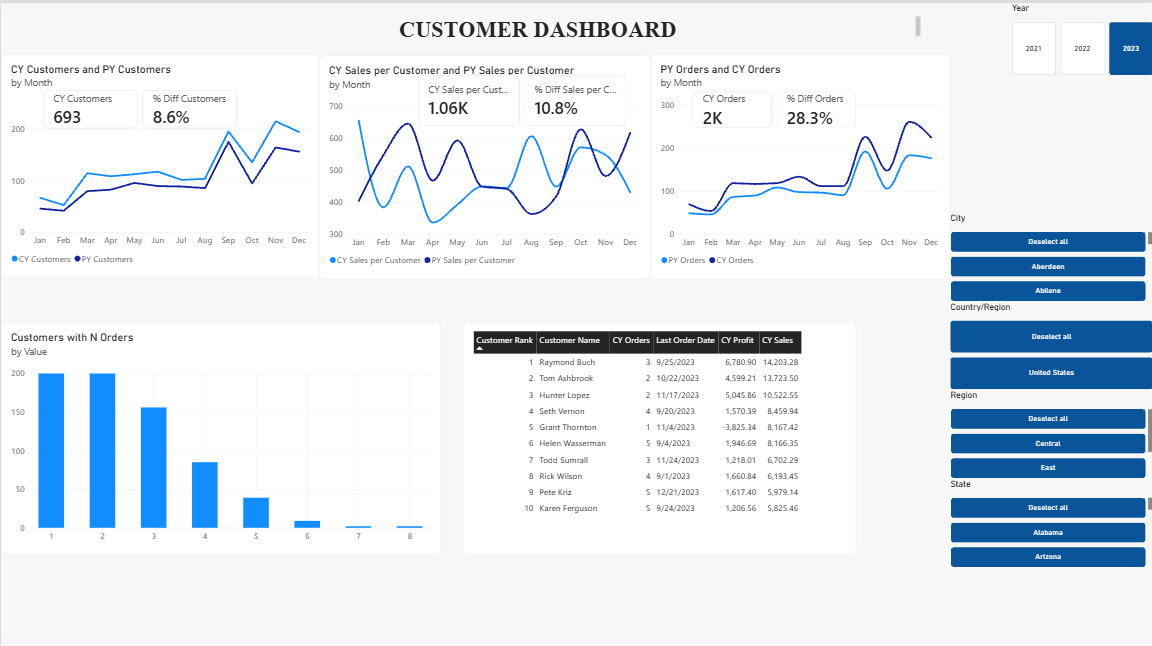

What the dashboard file says about the page in this screenshot:
{"tool":"powerbi","page":{"name":"Customer Dashboard","canvas":[1920,1080],"ordinal":1},"visuals":[{"type":"advancedSlicerVisual","fields":{"Values":["Year Select.Year"]},"box":[1685,0,235,120],"z":0},{"type":"advancedSlicerVisual","fields":{"Values":["Location.Region"]},"box":[1582.5,645,337.5,147.5],"z":1000},{"type":"advancedSlicerVisual","fields":{"Values":["Location.State"]},"box":[1582.5,792.5,337.5,147.5],"z":2000},{"type":"advancedSlicerVisual","fields":{"Values":["Location.Country/Region"]},"box":[1582.5,497.5,337.5,147.5],"z":3000},{"type":"advancedSlicerVisual","fields":{"Values":["Location.City"]},"box":[1582.5,350,337.5,147.5],"z":4000},{"type":"lineChart","fields":{"Category":["Calendar.Month"],"Y":["Orders.CY Customers","Orders.PY Customers"]},"box":[0,85,530,372.5],"z":5000},{"type":"lineChart","fields":{"Category":["Calendar.Month"],"Y":["Orders.CY Sales per Customer","Orders.PY Sales per Customer"]},"box":[530,87.5,552.5,372.5],"z":6000},{"type":"lineChart","fields":{"Category":["Calendar.Month"],"Y":["Orders.PY Orders","Orders.CY Orders"]},"box":[1082.5,85,500,375],"z":7000},{"type":"clusteredColumnChart","fields":{"Category":["Order Count Axis.Value"],"Y":["Orders.Customers with N Orders"]},"box":[0,532.5,732.5,387.5],"z":8000},{"type":"cardVisual","fields":{"Data":["Orders.CY Customers","Orders.% Diff Customers"]},"box":[70,145,324.3,64.3],"z":9000},{"type":"cardVisual","fields":{"Data":["Orders.CY Sales per Customer","Orders.% Diff Sales per Customer"]},"box":[695,120,347.5,85],"z":10000},{"type":"textbox","box":[265,22.5,1267.5,37.5],"z":11000},{"type":"cardVisual","fields":{"Data":["Orders.CY Orders","Orders.% Diff Orders"]},"box":[1152.5,147.5,272.5,60],"z":12000},{"type":"tableEx","fields":{"Values":["Orders.Customer Rank","Customers.Customer Name","Orders.CY Orders","Orders.Last Order Date","Orders.CY Profit","Orders.CY Sales"]},"box":[770,532.5,655,387.5],"z":12001}]}

Visuals, with their boxes in screenshot pixels (x1, y1, x2, y2), scaled from the page's 1920x1080 canvas onto the 1152x646 screenshot:
advancedSlicerVisual - Year Select.Year: select_region(1011, 0, 1151, 72)
advancedSlicerVisual - Location.Region: select_region(950, 386, 1151, 474)
advancedSlicerVisual - Location.State: select_region(950, 474, 1151, 562)
advancedSlicerVisual - Location.Country/Region: select_region(950, 298, 1151, 386)
advancedSlicerVisual - Location.City: select_region(950, 209, 1151, 298)
lineChart - Calendar.Month x Orders.CY Customers: select_region(0, 51, 318, 274)
lineChart - Calendar.Month x Orders.CY Sales per Customer: select_region(318, 52, 650, 275)
lineChart - Calendar.Month x Orders.PY Orders: select_region(650, 51, 950, 275)
clusteredColumnChart - Order Count Axis.Value x Orders.Customers with N Orders: select_region(0, 319, 440, 550)
cardVisual - Orders.CY Customers x Orders.% Diff Customers: select_region(42, 87, 237, 125)
cardVisual - Orders.CY Sales per Customer x Orders.% Diff Sales per Customer: select_region(417, 72, 626, 123)
textbox: select_region(159, 13, 920, 36)
cardVisual - Orders.CY Orders x Orders.% Diff Orders: select_region(692, 88, 855, 124)
tableEx - Orders.Customer Rank x Customers.Customer Name: select_region(462, 319, 855, 550)
